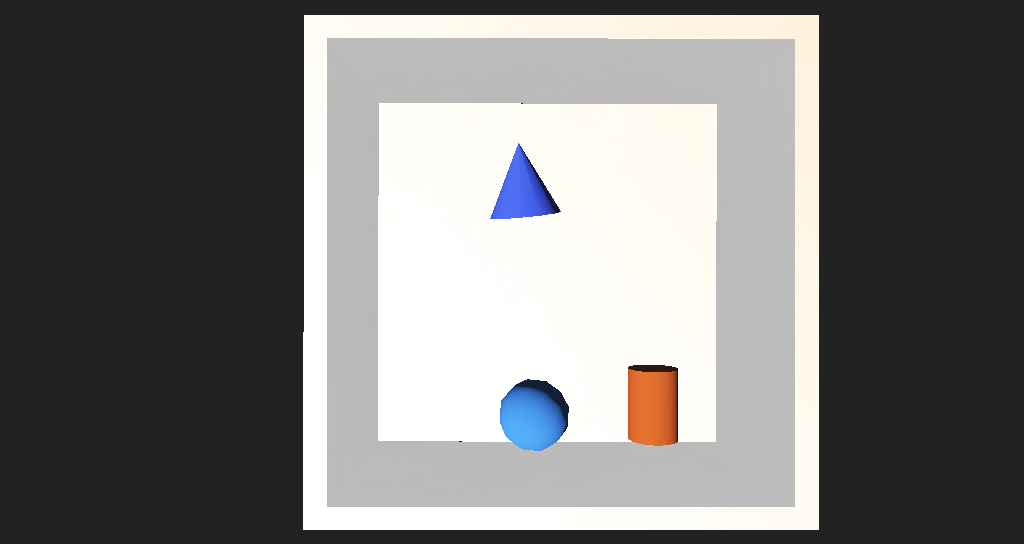cone: (573, 327, 627, 379)
cylinder: (448, 179, 522, 241)
sphere: (458, 336, 525, 379)
